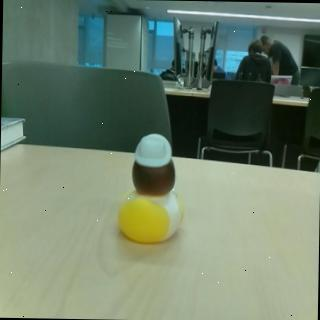duck_specialty: (117, 131, 188, 246)
